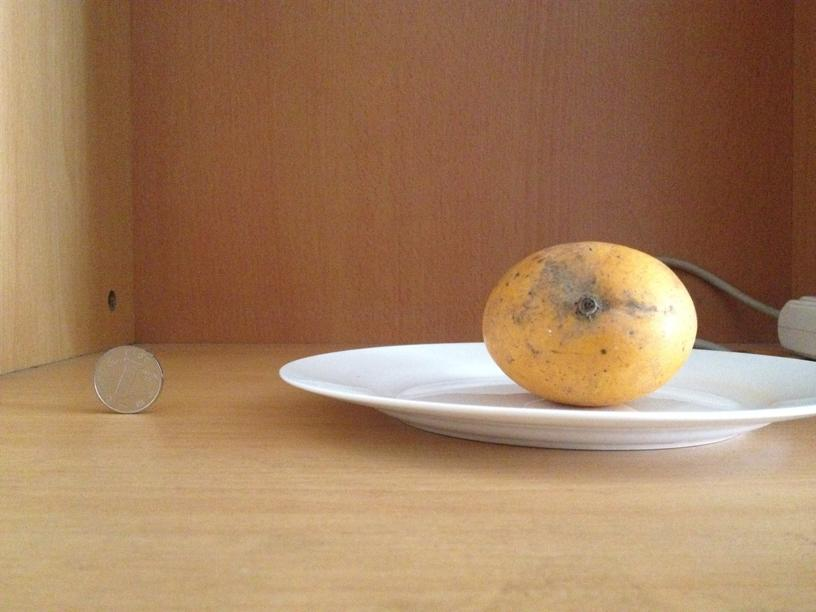coin: (93, 345, 162, 414)
mango: (479, 239, 698, 408)
